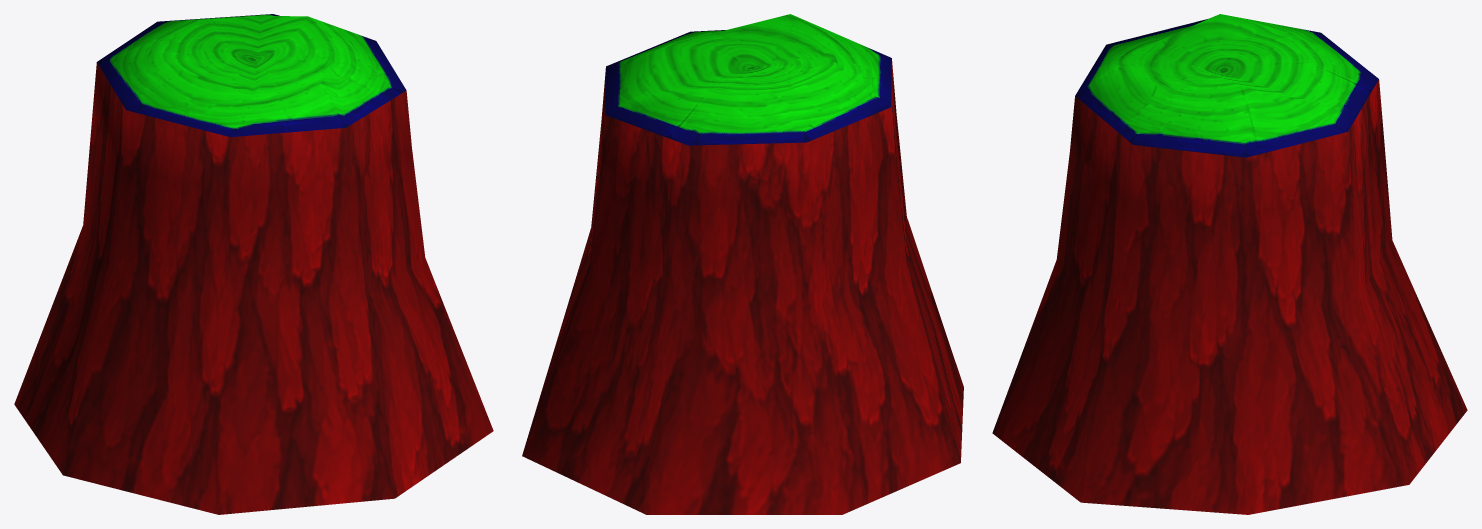
File: SpruceStump02.fbx
The picture shows the model from 3 angles, left to right: view 1: azimuth 30°, elevation 25°; view 2: azimuth 150°, elevation 25°; view 3: azimuth 270°, elevation 25°; orthographic projection. The views are drawn at different scales.
Parts seen in each view (by area): view 1: SpruceStump02_LOD0; view 2: SpruceStump02_LOD0; view 3: SpruceStump02_LOD0.
Part boxes in pixels (bbox=[...]): SpruceStump02_LOD0: bbox=[14, 14, 493, 514]; SpruceStump02_LOD0: bbox=[522, 14, 963, 514]; SpruceStump02_LOD0: bbox=[992, 14, 1467, 514].
Size of what is drawn, in the model's own units: 0.8083 by 0.7319 by 0.856.
